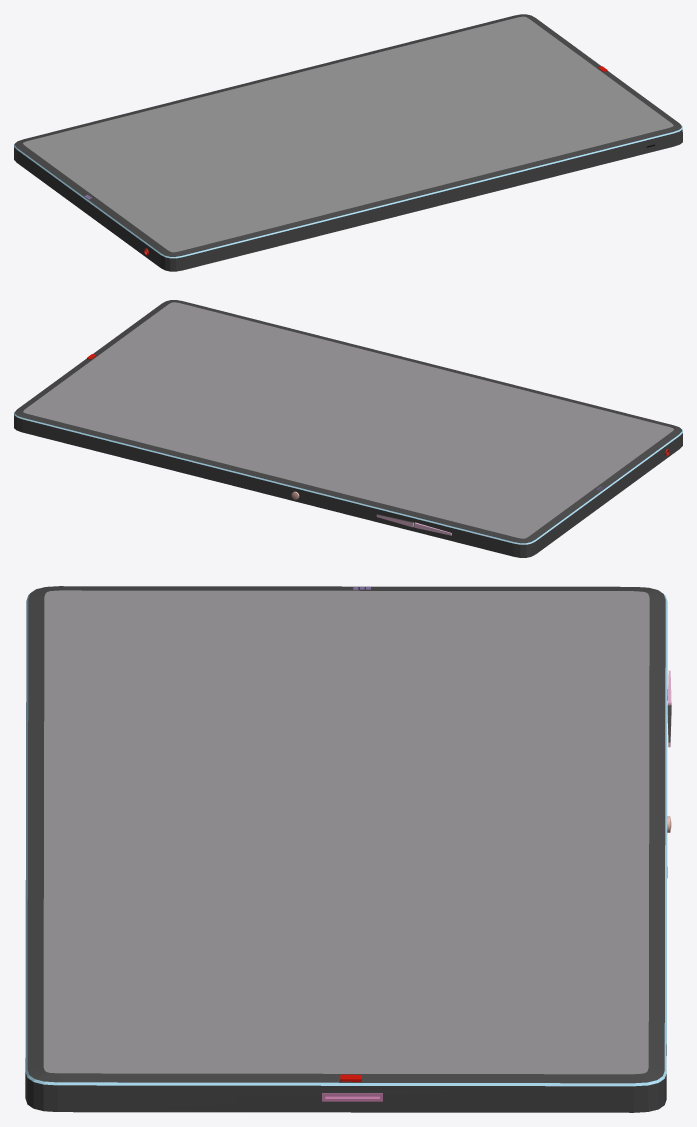
Rendered from Tablet.FBX.
The picture shows the model from 3 angles, top to bottom: view 1: azimuth 30°, elevation 25°; view 2: azimuth 150°, elevation 25°; view 3: azimuth 270°, elevation 25°; orthographic projection. The views are drawn at different scales.
Visible parts, largest first — view 1: Tablet; view 2: Tablet; view 3: Tablet.
Boxes of the visible parts, box(x1,y1,x2,y2) form: Tablet: box(14, 14, 682, 271); Tablet: box(14, 300, 682, 557); Tablet: box(25, 586, 671, 1112).
Size of the model in its own units: 2.92 by 1.57 by 0.1084.
